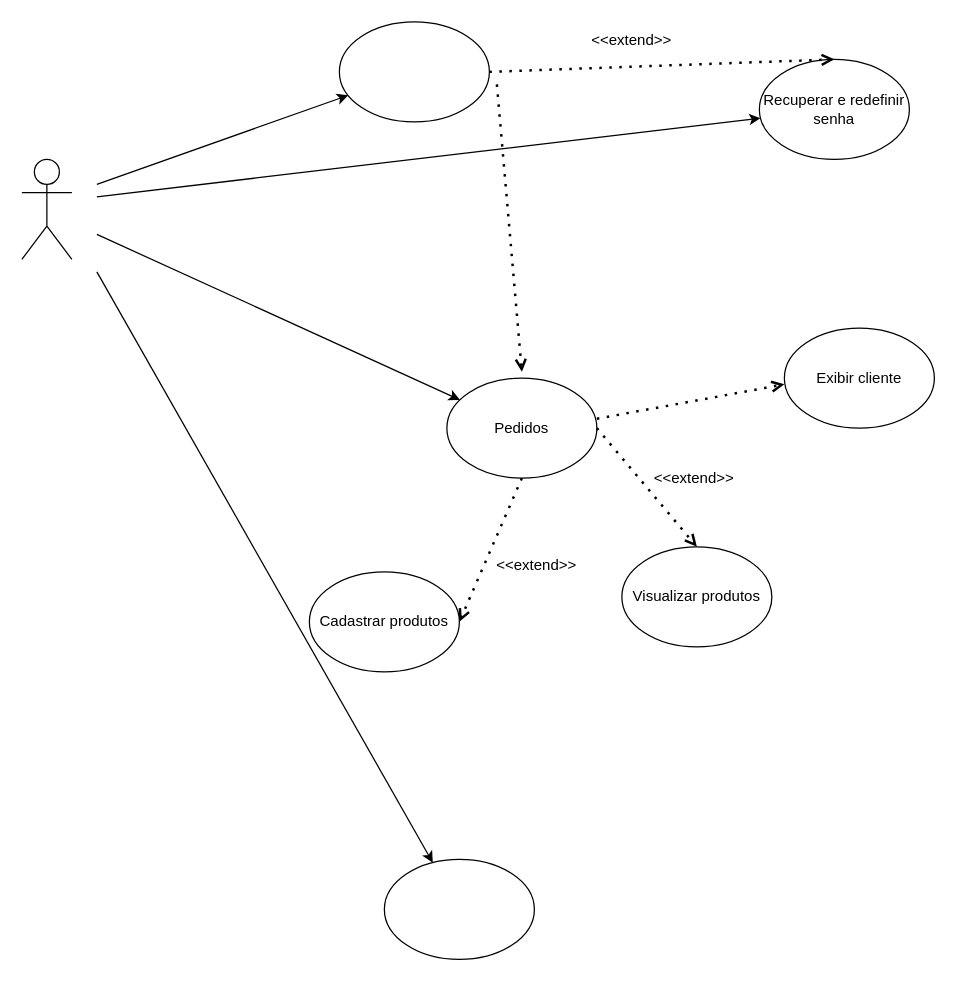
Some shapes in this 956 by 981 pixel diagram are drawn without their labels. Here are the shapes that lost their labels. From the top down, the centre of each, then its label:
the point at 413,71: Logar
the point at 46,208: Lojista
the point at 458,908: Cadastro Lojista
